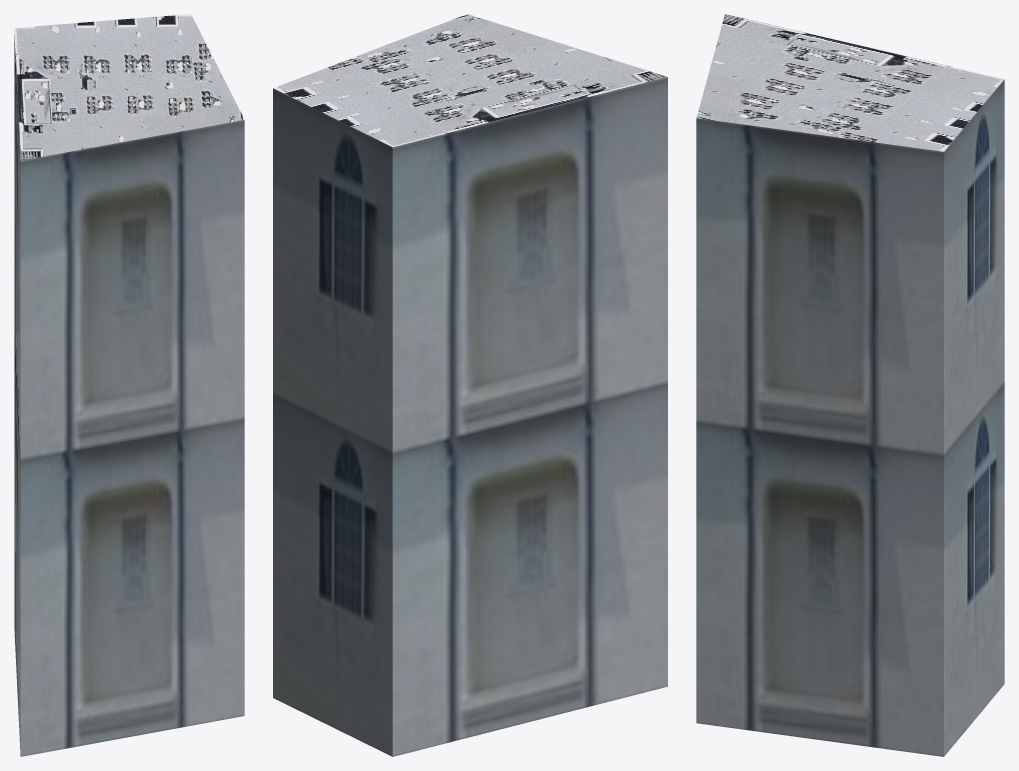
The model's file is ResTex__3994.fbx.
3 renders of one model, left to right at view 1: azimuth 30°, elevation 25°; view 2: azimuth 150°, elevation 25°; view 3: azimuth 270°, elevation 25°, orthographic. The views are drawn at different scales.
Visible parts, largest first — view 1: CityEngineMaterial_17_m, CityEngineMaterial_4_m; view 2: CityEngineMaterial_17_m, CityEngineMaterial_4_m; view 3: CityEngineMaterial_17_m, CityEngineMaterial_4_m.
Boxes of the visible parts, box(x1,y1,x2,y2) form: CityEngineMaterial_17_m: box(14, 35, 244, 756); CityEngineMaterial_4_m: box(14, 14, 244, 160); CityEngineMaterial_17_m: box(273, 77, 667, 756); CityEngineMaterial_4_m: box(273, 14, 666, 146); CityEngineMaterial_17_m: box(696, 79, 1004, 756); CityEngineMaterial_4_m: box(696, 14, 1004, 151).
Bounding box in the file's own units: 2.93 × 6 × 2.77.
Materials: 2 (2 with a texture image).
